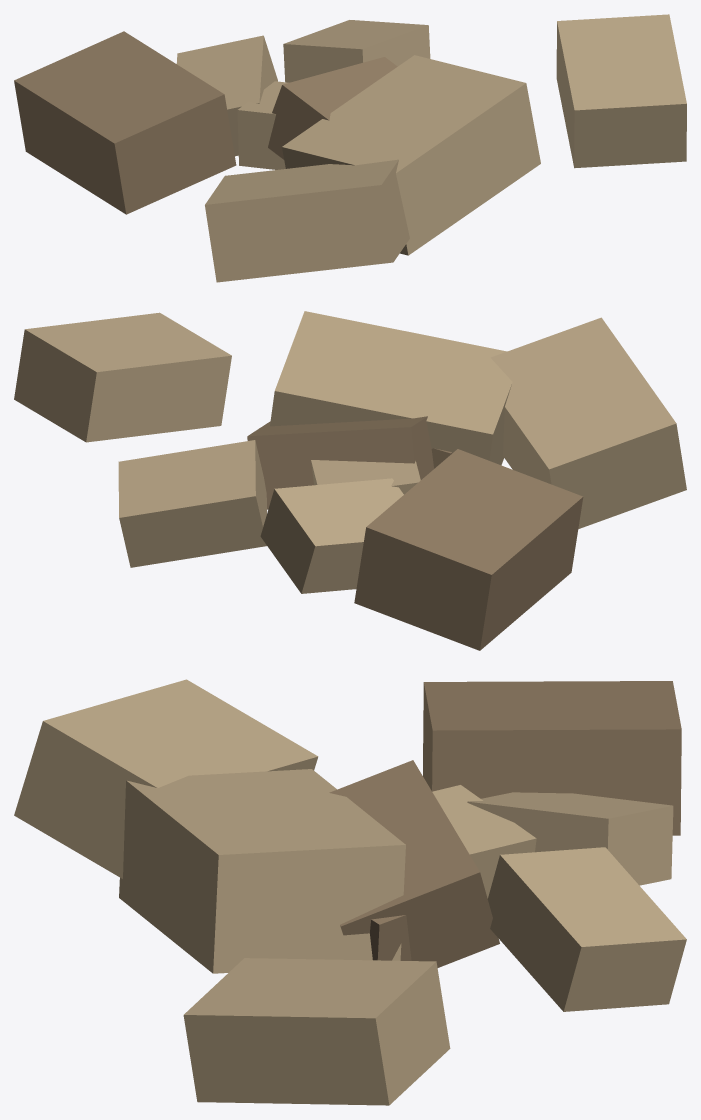
The model's file is rubble.glb.
The picture shows the model from 3 angles, top to bottom: view 1: azimuth 30°, elevation 25°; view 2: azimuth 150°, elevation 25°; view 3: azimuth 270°, elevation 25°; orthographic projection. The views are drawn at different scales.
Parts seen in each view (by area): view 1: rubble; view 2: rubble; view 3: rubble.
Boxes of the visible parts, x1,y1,x2,y2 form: rubble: [14, 14, 686, 282]; rubble: [14, 311, 686, 650]; rubble: [14, 679, 686, 1105].
Size of the model in its own units: 2.98 by 0.6504 by 2.36.
